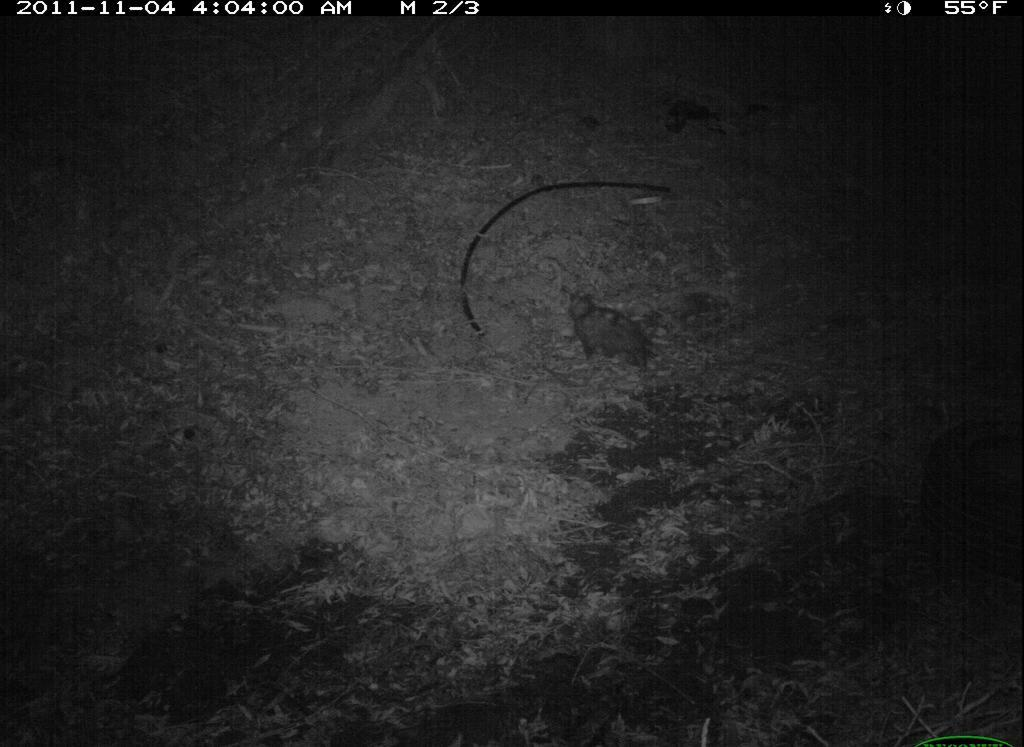opossum: (562, 283, 673, 381)
